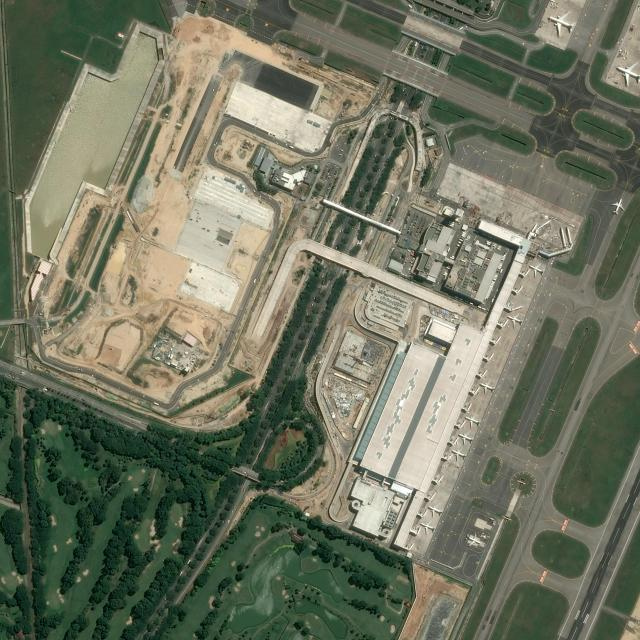1: (616, 60, 640, 86)
aircraft: (549, 9, 575, 36), (506, 312, 524, 327), (452, 446, 468, 462), (479, 379, 496, 394), (458, 430, 474, 445), (529, 262, 545, 277), (611, 198, 625, 215), (465, 532, 481, 546), (420, 520, 436, 534), (465, 414, 481, 428), (428, 503, 443, 517)
